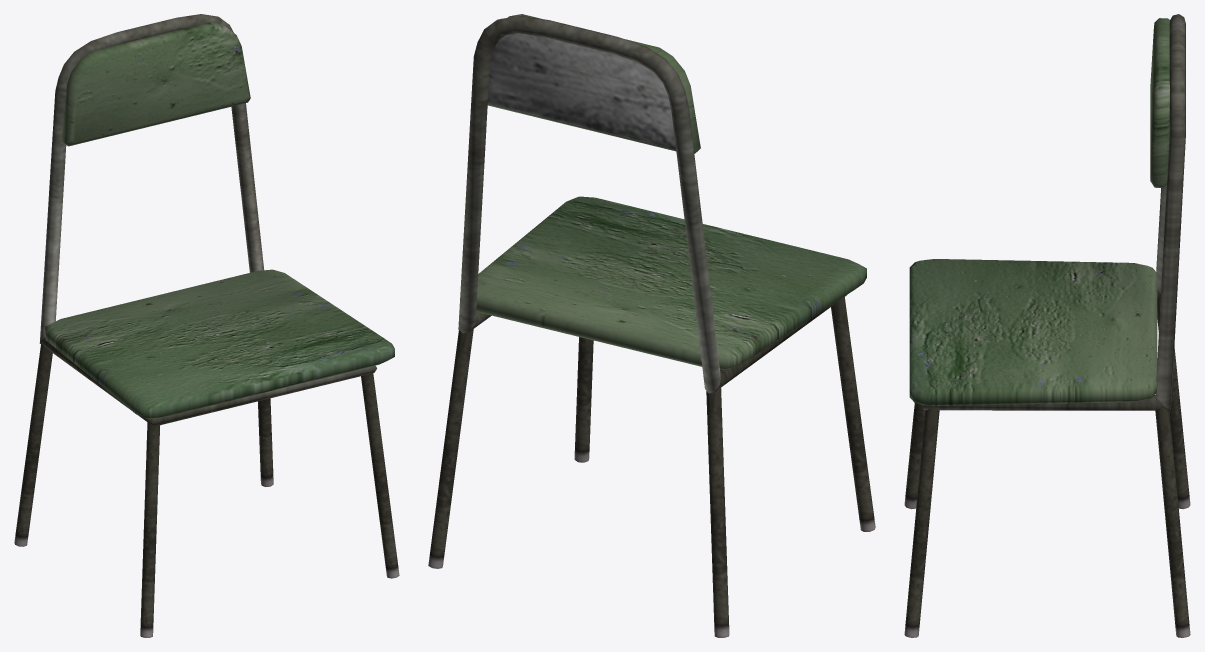
File: furniture_chair_thin01.dae
The picture shows the model from 3 angles, left to right: view 1: azimuth 30°, elevation 25°; view 2: azimuth 150°, elevation 25°; view 3: azimuth 270°, elevation 25°; orthographic projection. The views are drawn at different scales.
Parts seen in each view (by area): view 1: furniture_chair_thin01; view 2: furniture_chair_thin01; view 3: furniture_chair_thin01.
Boxes of the visible parts, left/top/right/bottom form: furniture_chair_thin01: left=14, top=14, right=399, bottom=637; furniture_chair_thin01: left=428, top=14, right=875, bottom=637; furniture_chair_thin01: left=904, top=14, right=1190, bottom=637.
Size of what is drawn, in the model's own units: 0.6096 by 1.11 by 0.5408.
